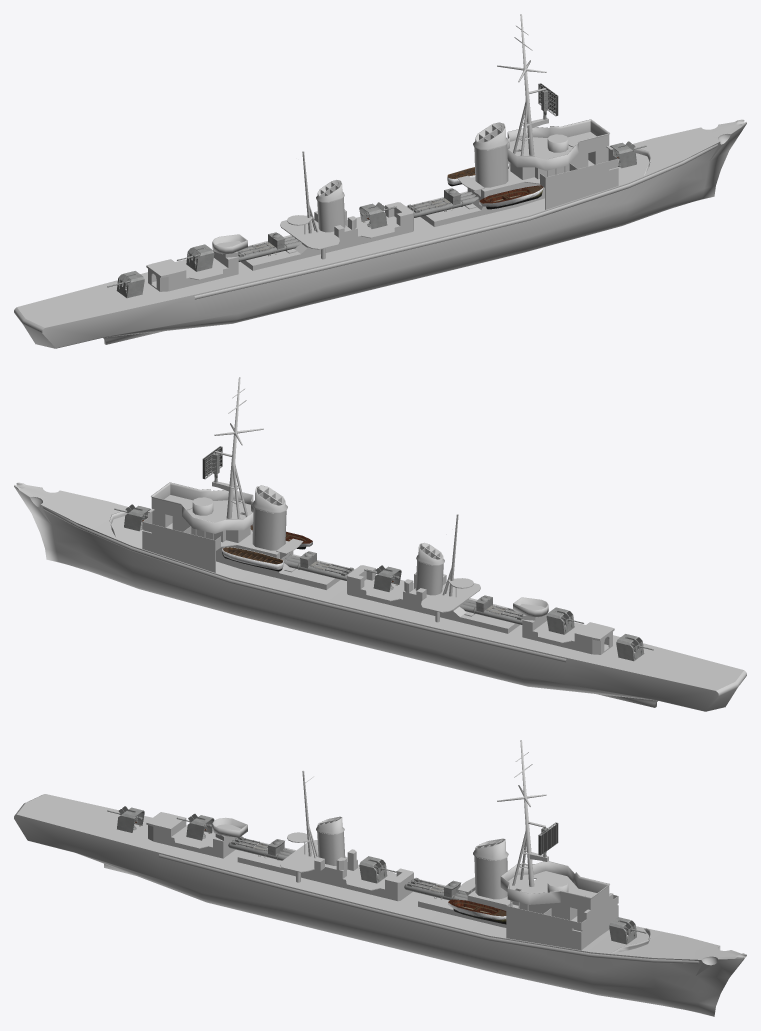
3 renders of one model, top to bottom at view 1: azimuth 30°, elevation 25°; view 2: azimuth 150°, elevation 25°; view 3: azimuth 330°, elevation 25°, orthographic.
Parts seen in each view (by area): view 1: T-22_Hull, T-22_TorpedoTubes, T-22_TorpedoTubes.001, T-22_Vessel_1, T-22_Main_turret.002, T-22_Main_turret.003; view 2: T-22_Hull, T-22_TorpedoTubes, T-22_TorpedoTubes.001, T-22_Vessel_2, T-22_Main_turret.002, T-22_Main_turret.003; view 3: T-22_Hull, T-22_TorpedoTubes.001, T-22_TorpedoTubes, T-22_Vessel_1, T-22_Main_turret.001, T-22_Main_turret, T-22_Main_turret.003, T-22_Main_turret.002, T-22_Radar_2.
Boxes of the visible parts, x1,y1,x2,y2 form: T-22_Hull: [14, 14, 746, 348]; T-22_TorpedoTubes: [407, 188, 478, 217]; T-22_TorpedoTubes.001: [237, 232, 301, 261]; T-22_Vessel_1: [479, 185, 543, 209]; T-22_Main_turret.002: [186, 244, 214, 271]; T-22_Main_turret.003: [116, 271, 144, 298]; T-22_Hull: [14, 377, 746, 711]; T-22_TorpedoTubes: [283, 551, 353, 580]; T-22_TorpedoTubes.001: [459, 595, 523, 624]; T-22_Vessel_2: [222, 547, 283, 571]; T-22_Main_turret.002: [546, 607, 574, 634]; T-22_Main_turret.003: [616, 634, 644, 661]; T-22_Hull: [14, 740, 746, 1016]; T-22_TorpedoTubes.001: [228, 836, 294, 860]; T-22_TorpedoTubes: [404, 877, 467, 900]; T-22_Vessel_1: [448, 899, 506, 924]; T-22_Main_turret.001: [359, 856, 387, 883]; T-22_Main_turret: [609, 917, 636, 944]; T-22_Main_turret.003: [117, 806, 144, 832]; T-22_Main_turret.002: [186, 813, 214, 840]; T-22_Radar_2: [538, 822, 558, 857].
Bounding box in the file's own units: 9714 × 2945 × 972.
